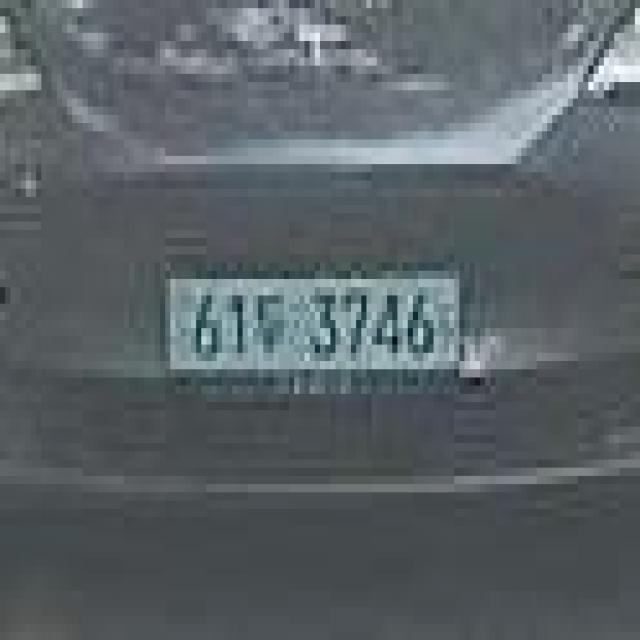EV_plate: (162, 262, 466, 406)
